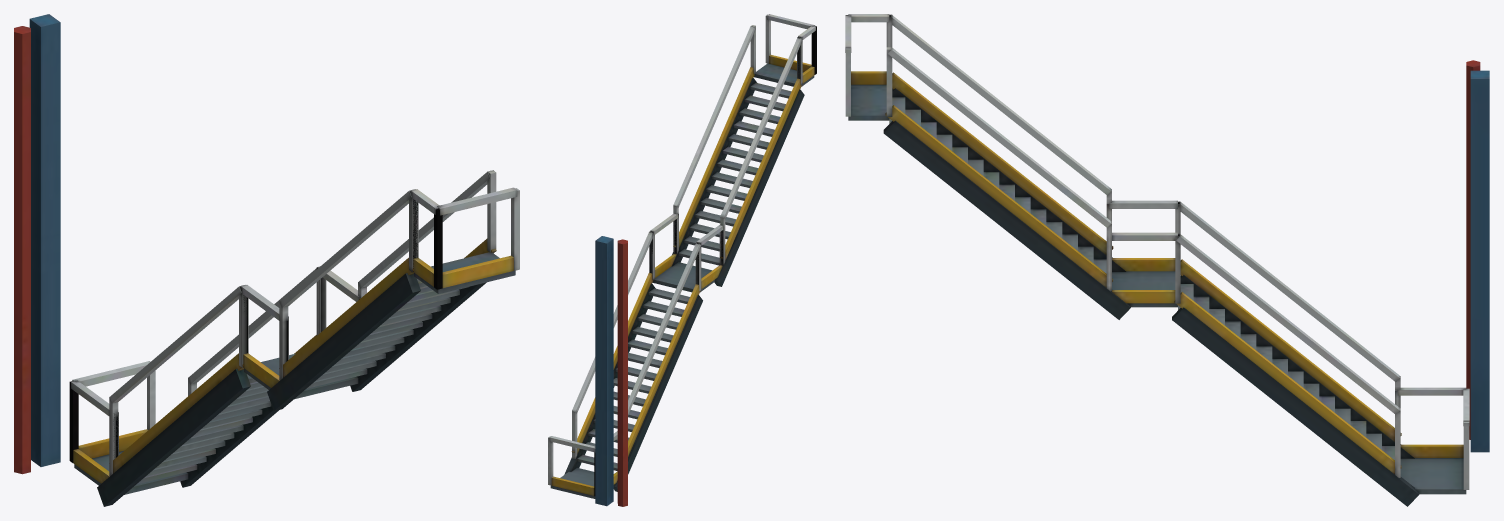
File: access_frstair_v5_far.glb
The picture shows the model from 3 angles, left to right: view 1: azimuth 30°, elevation 25°; view 2: azimuth 150°, elevation 25°; view 3: azimuth 270°, elevation 25°; orthographic projection. The views are drawn at different scales.
Visible parts, largest first — view 1: body; view 2: body; view 3: body.
Boxes of the visible parts, x1,y1,x2,y2 form: body: (14,14,519,506); body: (548,14,816,506); body: (845,14,1489,506).
Bounding box in the file's own units: 1.97 × 7.35 × 9.39.
1 material, 1 textured.
